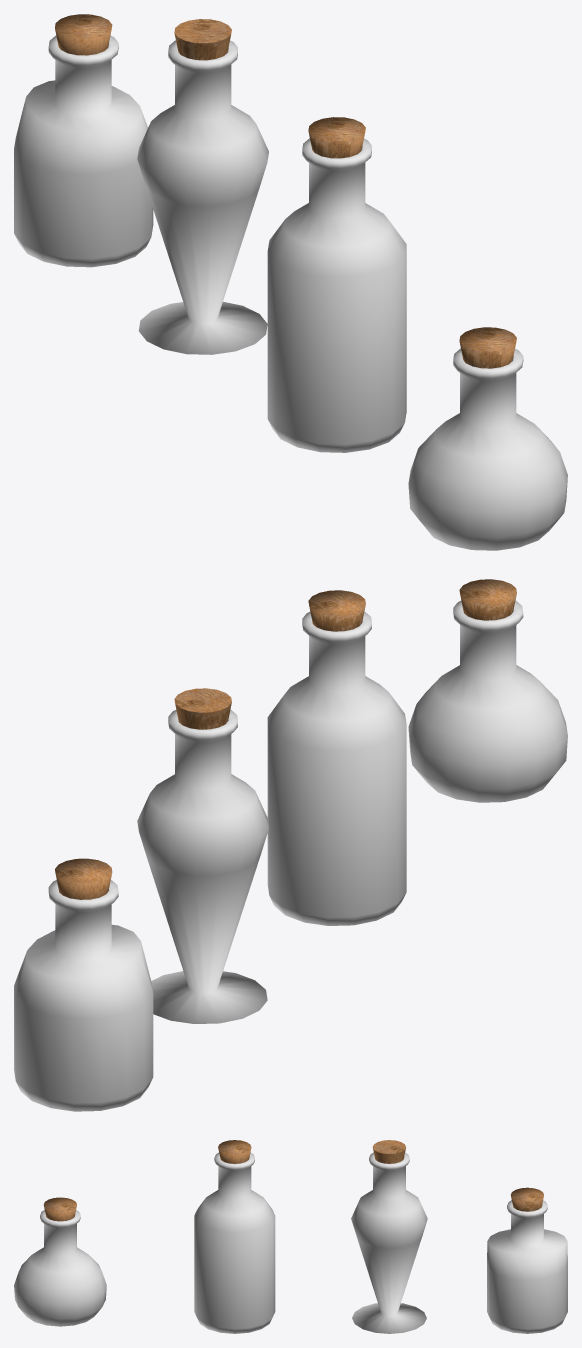
Rendered from PotionBottles.fbx.
3 views of the same model, one above another, from view 1: azimuth 30°, elevation 25°; view 2: azimuth 150°, elevation 25°; view 3: azimuth 270°, elevation 25° (orthographic). The views are drawn at different scales.
Visible parts, largest first — view 1: Bottle, Bottle.001, Bottle.003, Bottle.002, Cork.001, Cork.003, Cork, Cork.002; view 2: Bottle, Bottle.001, Bottle.003, Bottle.002, Cork.001, Cork.002, Cork, Cork.003; view 3: Bottle, Bottle.001, Bottle.003, Bottle.002, Cork, Cork.002, Cork.003, Cork.001.
Boxes of the visible parts, box(x1,y1,x2,y2) form: Bottle: box(267, 138, 406, 452); Bottle.001: box(137, 40, 268, 354); Bottle.003: box(14, 35, 153, 267); Bottle.002: box(408, 348, 567, 550); Cork.001: box(174, 19, 231, 60); Cork.003: box(55, 14, 112, 55); Cork: box(308, 117, 365, 158); Cork.002: box(459, 327, 516, 368); Bottle: box(267, 611, 406, 925); Bottle.001: box(137, 709, 268, 1023); Bottle.003: box(14, 880, 153, 1111); Bottle.002: box(408, 600, 567, 802); Cork.001: box(174, 688, 231, 729); Cork.002: box(459, 579, 516, 620); Cork: box(308, 590, 365, 631); Cork.003: box(55, 858, 112, 899); Bottle: box(194, 1152, 275, 1333); Bottle.001: box(351, 1152, 427, 1333); Bottle.003: box(487, 1200, 567, 1333); Bottle.002: box(14, 1210, 106, 1326); Cork: box(218, 1140, 251, 1163); Cork.002: box(43, 1197, 76, 1221); Cork.003: box(511, 1187, 543, 1211); Cork.001: box(372, 1140, 405, 1163).
Bounding box in the file's own units: 214 × 434 × 1274.
Materials: 8 (4 with a texture image).
